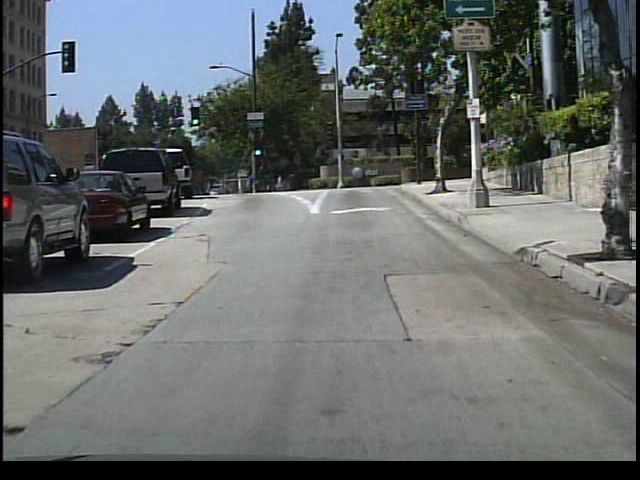person: (242, 168, 258, 196), (272, 169, 287, 195)
